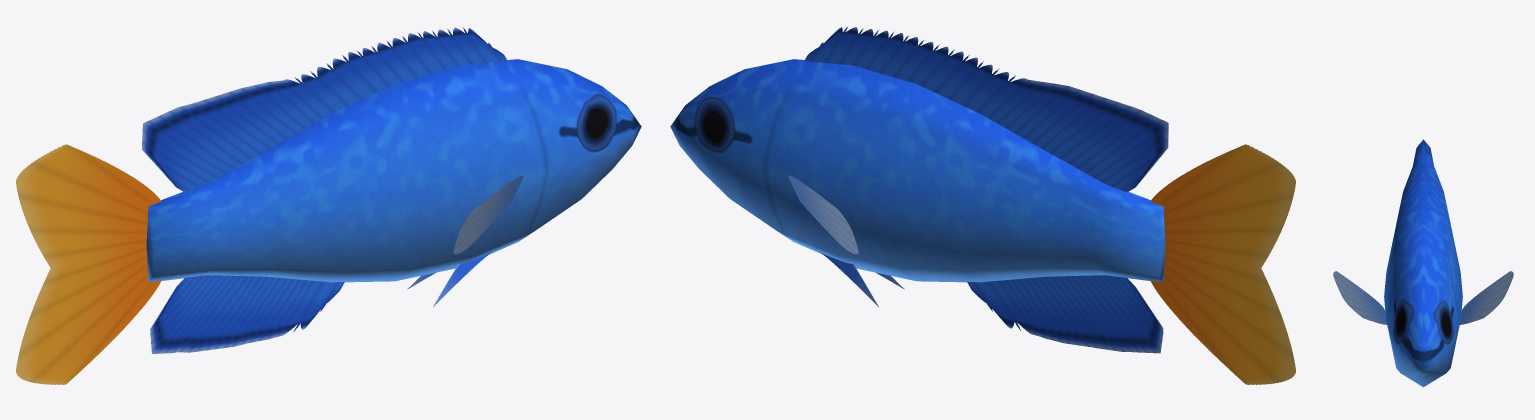
Rendered from Fish_SapphireDevil_M.gltf.
3 views of the same model, side by side, from view 1: azimuth 30°, elevation 25°; view 2: azimuth 150°, elevation 25°; view 3: azimuth 270°, elevation 25° (orthographic). The views are drawn at different scales.
Parts seen in each view (by area): view 1: Fish_SapphireDevil_M; view 2: Fish_SapphireDevil_M; view 3: Fish_SapphireDevil_M.
Part boxes in pixels (<box>): Fish_SapphireDevil_M: <box>16,27,641,384</box>; Fish_SapphireDevil_M: <box>670,26,1295,384</box>; Fish_SapphireDevil_M: <box>1333,139,1513,387</box>.
Size of the model in its own units: 0.0645 by 0.0318 by 0.0214.
Materials: 1 (1 with a texture image).
